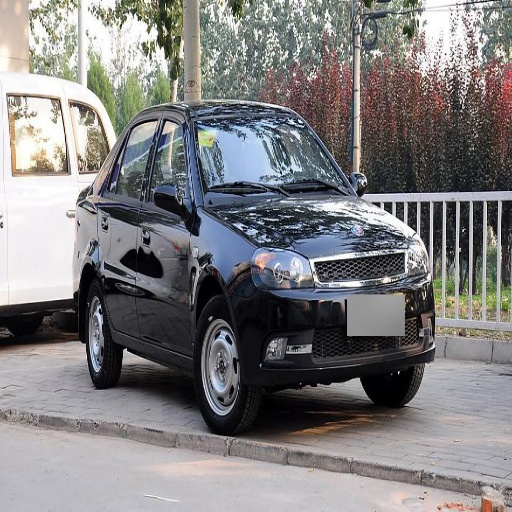front_bumper: (238, 258, 433, 390)
front_right_door: (136, 110, 191, 351)
front_right_light: (251, 248, 311, 291)
hood: (213, 194, 411, 280)
